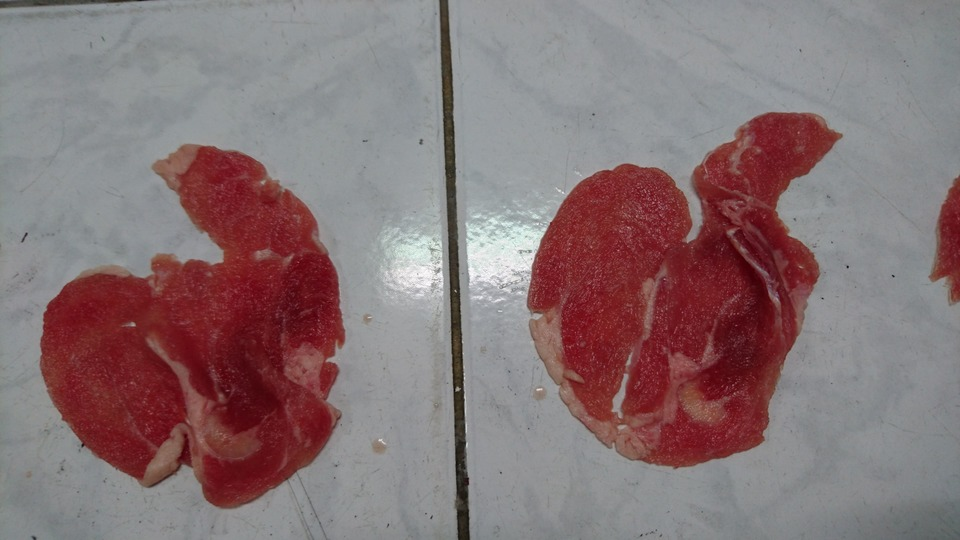restructured meat: (493, 103, 849, 467), (25, 145, 371, 504)
